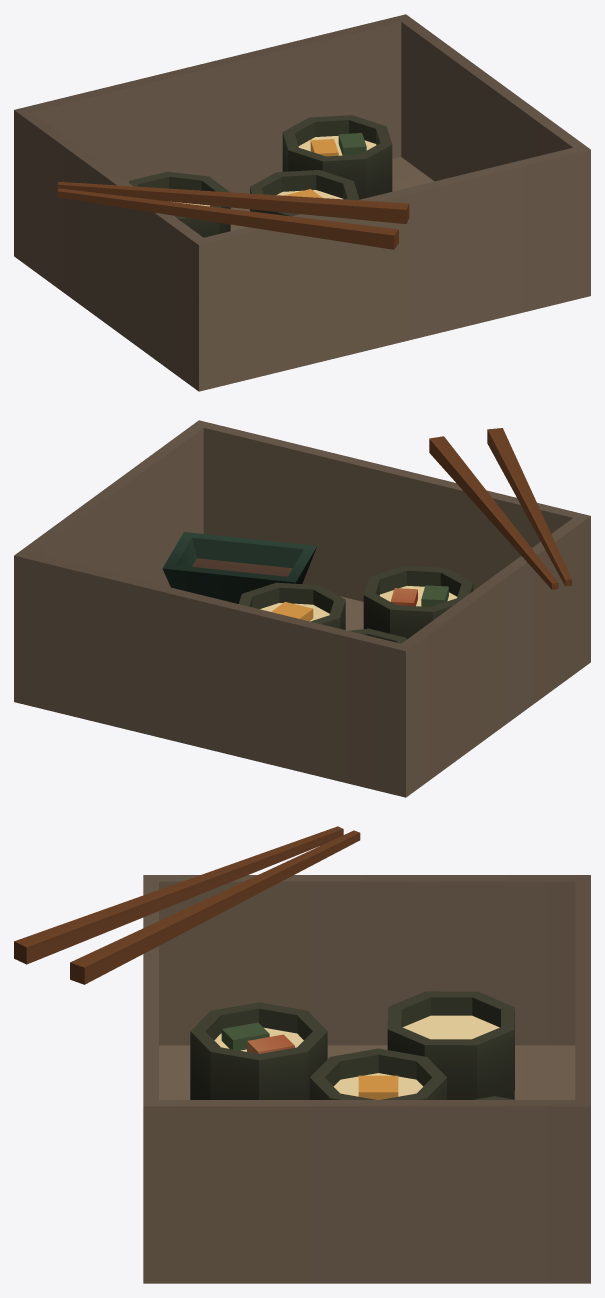
File: SM_Sushi.fbx
3 renders of one model, top to bottom at view 1: azimuth 30°, elevation 25°; view 2: azimuth 150°, elevation 25°; view 3: azimuth 270°, elevation 25°, orthographic. The views are drawn at different scales.
Parts seen in each view (by area): view 1: sushi, Cylinder.027, Cube.015, Cube.014, Cylinder.024, Cylinder.025, Cube.013; view 2: sushi, Cube.009, Cylinder.026, Cube.014, Cylinder.024, Cube.015, Cube.011, Cube.008; view 3: sushi, Cylinder.025, Cylinder.026, Cube.015, Cube.014, Cylinder.024, Cube.008, Cube.011, Cube.010.
Part boxes in pixels (bbox=[...]): sushi: bbox=[14, 14, 590, 391]; Cylinder.027: bbox=[282, 115, 392, 199]; Cube.015: bbox=[57, 188, 398, 249]; Cube.014: bbox=[57, 181, 409, 224]; Cylinder.024: bbox=[250, 170, 359, 216]; Cylinder.025: bbox=[128, 171, 230, 237]; Cube.013: bbox=[338, 133, 366, 155]; sushi: bbox=[14, 420, 590, 797]; Cube.009: bbox=[162, 532, 316, 603]; Cylinder.026: bbox=[363, 565, 473, 639]; Cube.014: bbox=[429, 436, 558, 589]; Cylinder.024: bbox=[239, 582, 345, 629]; Cube.015: bbox=[487, 428, 571, 586]; Cube.011: bbox=[421, 585, 448, 606]; Cube.008: bbox=[271, 602, 313, 621]; sushi: bbox=[143, 875, 590, 1283]; Cylinder.025: bbox=[387, 991, 514, 1099]; Cylinder.026: bbox=[190, 1002, 327, 1099]; Cube.015: bbox=[14, 826, 343, 964]; Cube.014: bbox=[70, 830, 360, 984]; Cylinder.024: bbox=[310, 1048, 446, 1099]; Cube.008: bbox=[358, 1075, 398, 1099]; Cube.011: bbox=[221, 1022, 269, 1050]; Cube.010: bbox=[247, 1034, 294, 1053].
Size of the model in its own units: 55.38 by 18.75 by 50.43.
